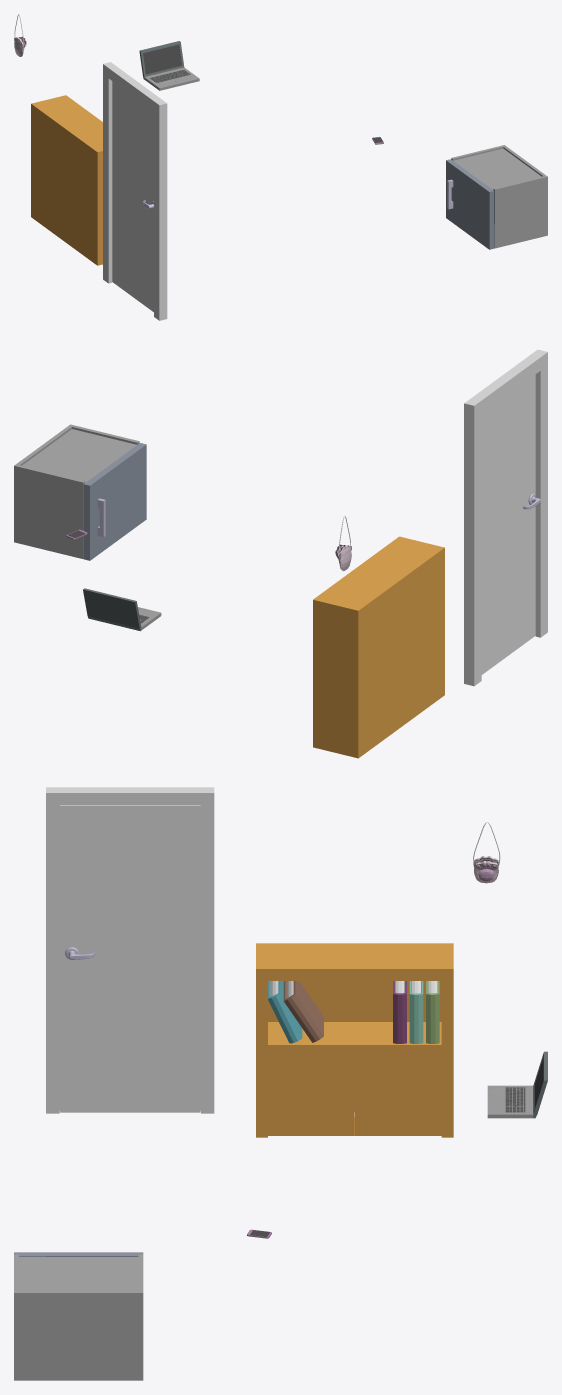
File: Isometric.interactable.fbx
3 renders of one model, top to bottom at view 1: azimuth 30°, elevation 25°; view 2: azimuth 150°, elevation 25°; view 3: azimuth 270°, elevation 25°, orthographic. The views are drawn at different scales.
Parts seen in each view (by area): view 1: Bookshlef, Door, DoorFrame, Kulkas, Kulkas.pintu.bawah, Laptop.body; view 2: Bookshlef, Door, DoorFrame, Kulkas, Kulkas.pintu.bawah, Laptop.body; view 3: Door, Bookshlef, Kulkas, DoorFrame, Laptop.body, Book.002, Book.001, Book.004, Book.003, Book.005.
Boxes of the visible parts, <box> form: Bookshlef: <box>31,95,102,265</box>; Door: <box>112,81,153,311</box>; DoorFrame: <box>103,62,167,320</box>; Kulkas: <box>451,145,547,248</box>; Kulkas.pintu.bawah: <box>446,159,494,249</box>; Laptop.body: <box>139,41,199,90</box>; Bookshlef: <box>313,536,444,758</box>; Door: <box>481,374,535,674</box>; DoorFrame: <box>464,349,547,686</box>; Kulkas: <box>14,424,139,558</box>; Kulkas.pintu.bawah: <box>83,443,146,560</box>; Laptop.body: <box>83,588,161,631</box>; Door: <box>60,805,200,1112</box>; Bookshlef: <box>256,943,453,1137</box>; Kulkas: <box>14,1254,143,1380</box>; DoorFrame: <box>46,787,214,1113</box>; Laptop.body: <box>487,1051,547,1118</box>; Book.002: <box>283,981,323,1042</box>; Book.001: <box>268,981,302,1043</box>; Book.004: <box>409,981,423,1043</box>; Book.003: <box>426,981,439,1043</box>; Book.005: <box>393,981,406,1043</box>.
Size of the model in its own units: 133 by 72.01 by 109.
